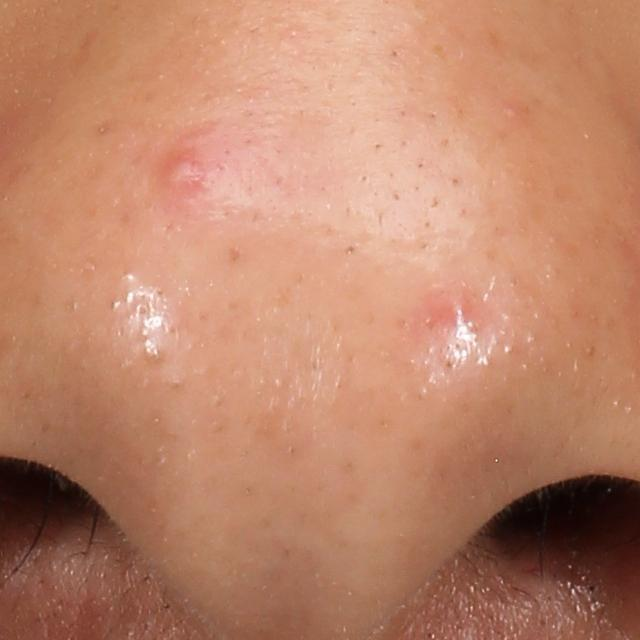comedo: (142, 347, 164, 365)
